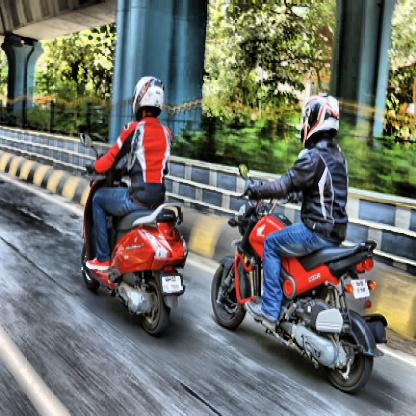wear: (300, 92, 340, 142), (133, 75, 164, 119)
